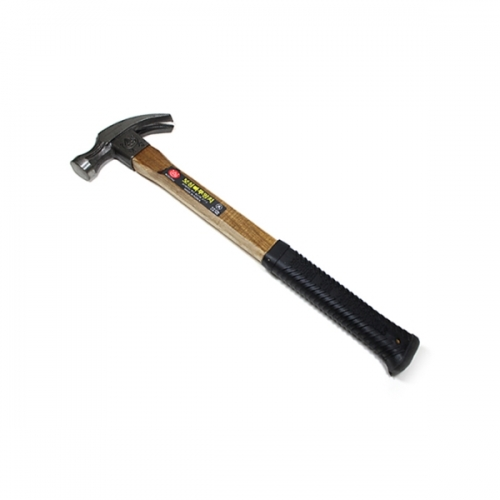hammer: (56, 106, 420, 391)
